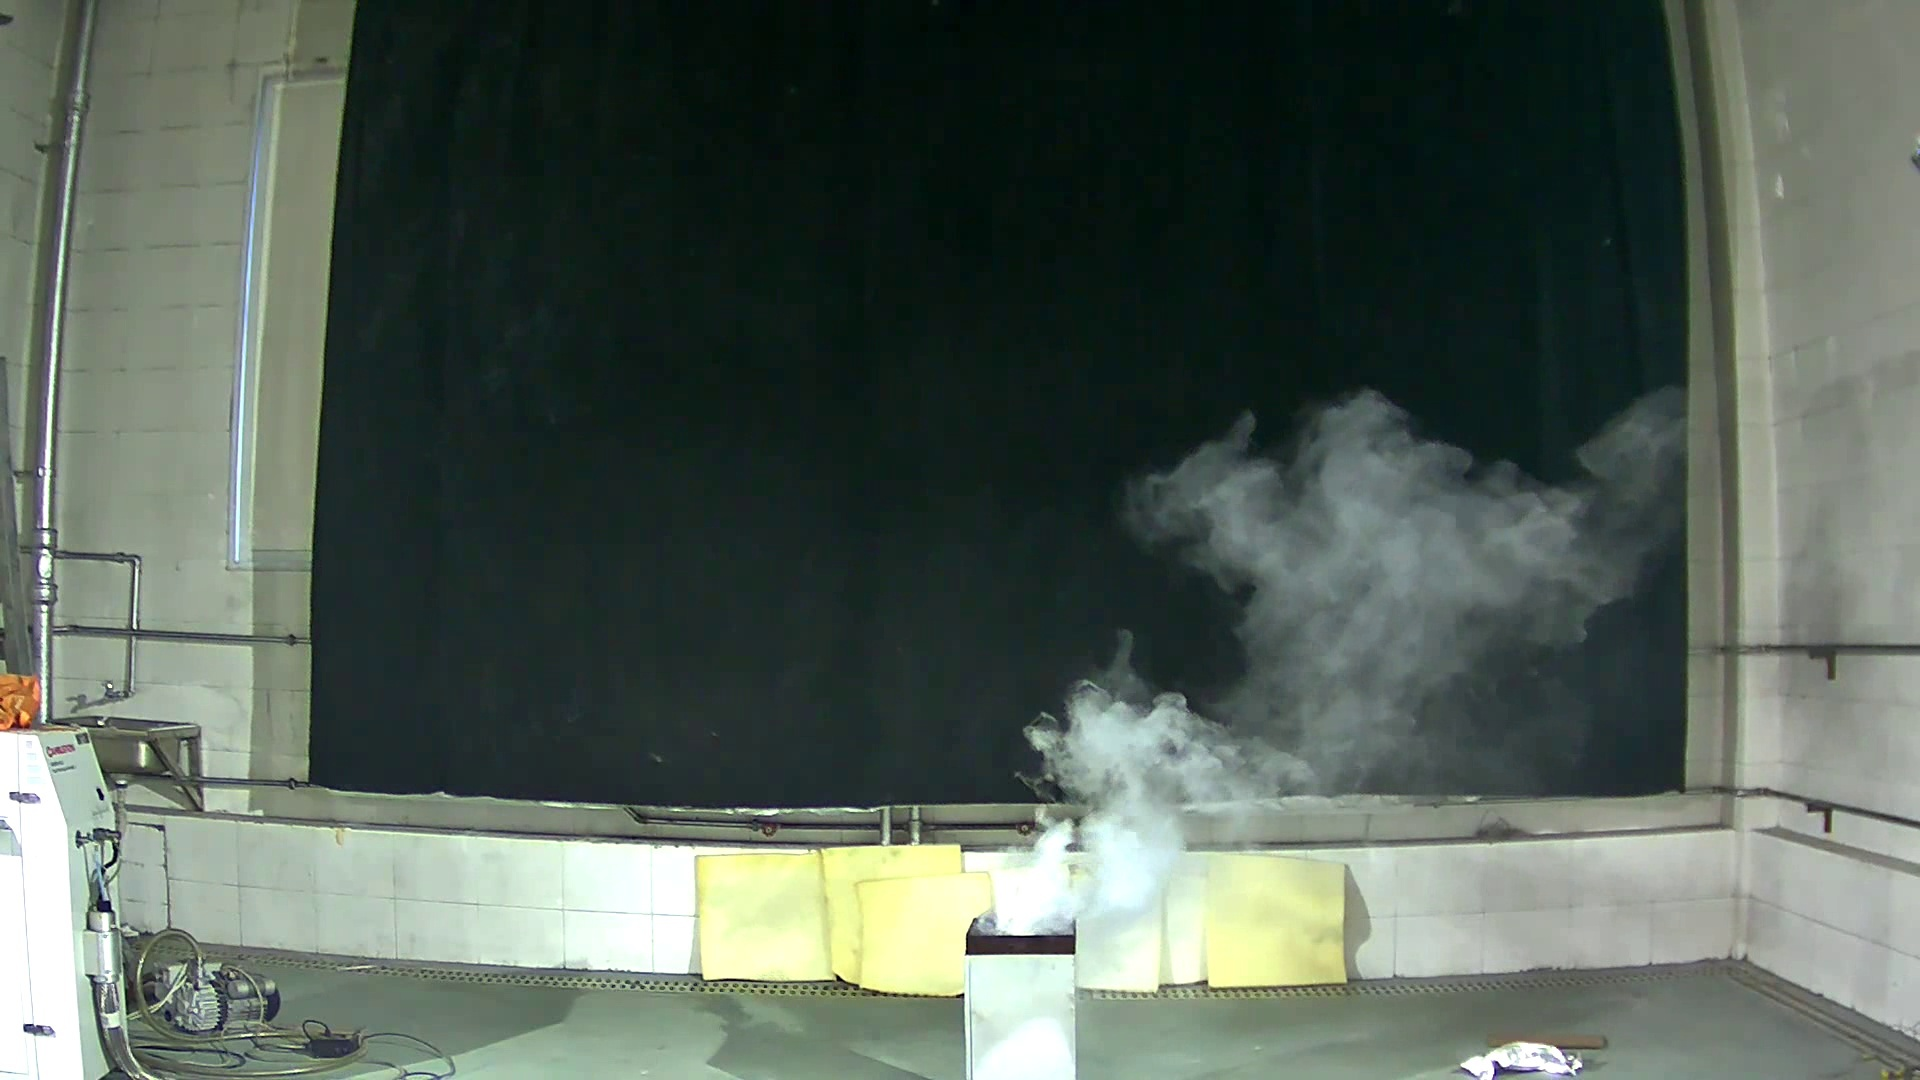smoke: (1139, 375, 1662, 761), (1004, 669, 1218, 911)
